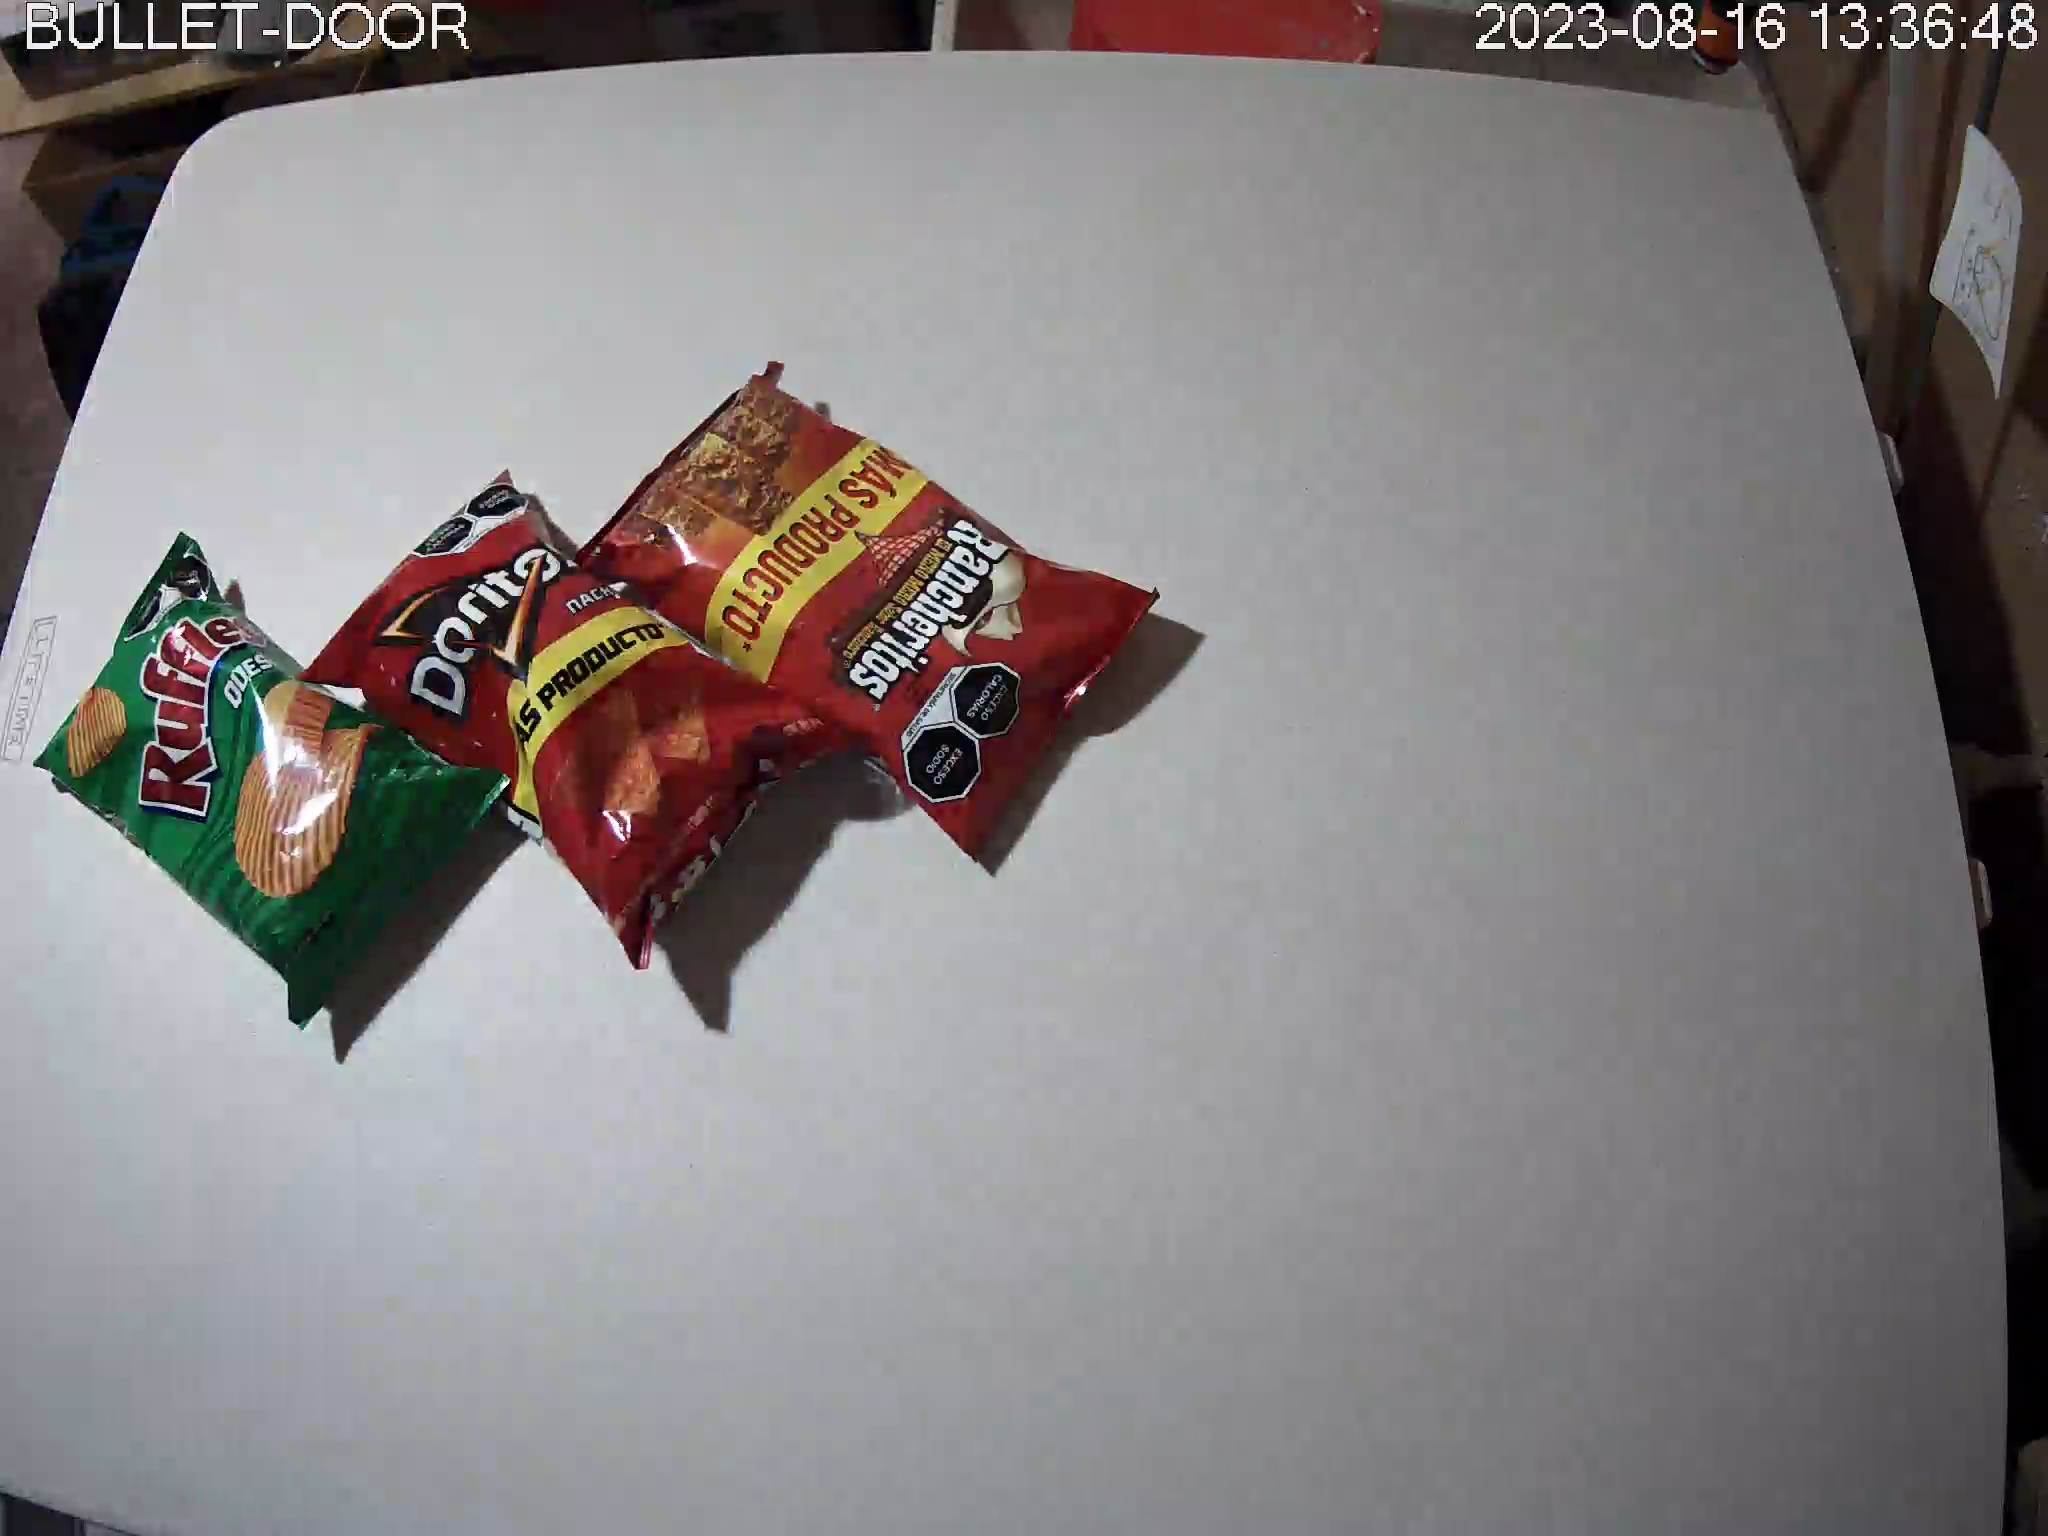DoritosN_61_F: (297, 473, 871, 975)
Rancheritos_58_F: (569, 365, 1163, 870)
RufflesQ_48_F: (31, 532, 516, 1031)
